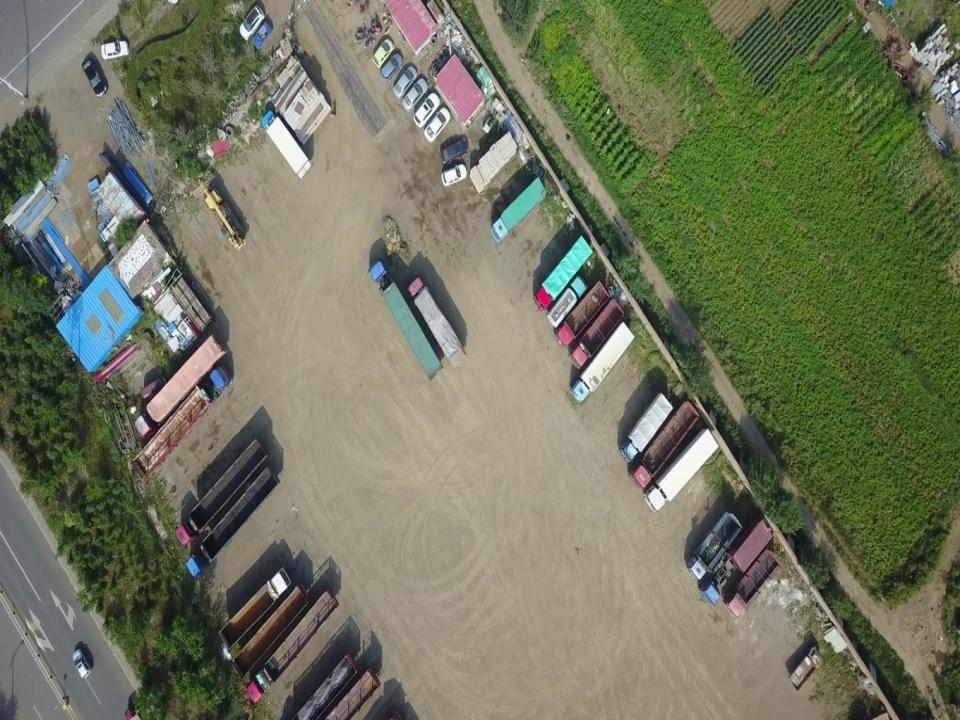car: (82, 55, 109, 93), (402, 76, 428, 115), (424, 107, 450, 143), (414, 93, 441, 126), (440, 133, 470, 162), (239, 9, 266, 38), (394, 63, 416, 98), (372, 38, 393, 68), (385, 50, 400, 86), (102, 38, 130, 57), (73, 650, 91, 679), (253, 25, 272, 49), (441, 167, 464, 185)
truck: (248, 590, 339, 704), (186, 470, 282, 578), (134, 334, 232, 438), (132, 366, 227, 473), (176, 437, 266, 544), (371, 262, 442, 378), (233, 588, 308, 682), (646, 430, 718, 513), (633, 400, 699, 488), (705, 522, 774, 606), (572, 322, 633, 406), (222, 571, 292, 644), (409, 280, 463, 364), (296, 650, 357, 720), (534, 239, 591, 309), (491, 177, 546, 243), (571, 299, 622, 368), (691, 512, 741, 581), (728, 548, 776, 619), (624, 393, 672, 461), (557, 284, 608, 346), (262, 111, 309, 176), (329, 669, 379, 720), (549, 280, 583, 326), (791, 647, 823, 689)
